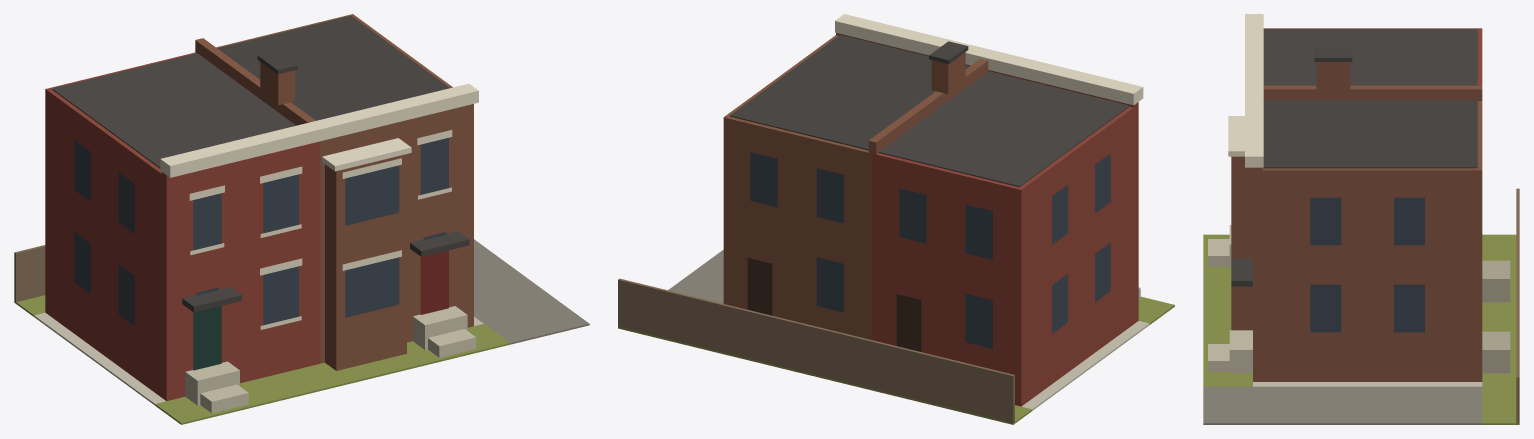
Rendered from terrace_s.glb.
The picture shows the model from 3 angles, left to right: view 1: azimuth 30°, elevation 25°; view 2: azimuth 150°, elevation 25°; view 3: azimuth 270°, elevation 25°; orthographic projection. The views are drawn at different scales.
Visible parts, largest first — view 1: terrace_s; view 2: terrace_s; view 3: terrace_s.
Part boxes in pixels (box(x1,y1,x2,y2)): terrace_s: box(14, 14, 589, 424); terrace_s: box(618, 14, 1174, 424); terrace_s: box(1203, 14, 1519, 424).
Size of the model in its own units: 24 by 15.4 by 17.
